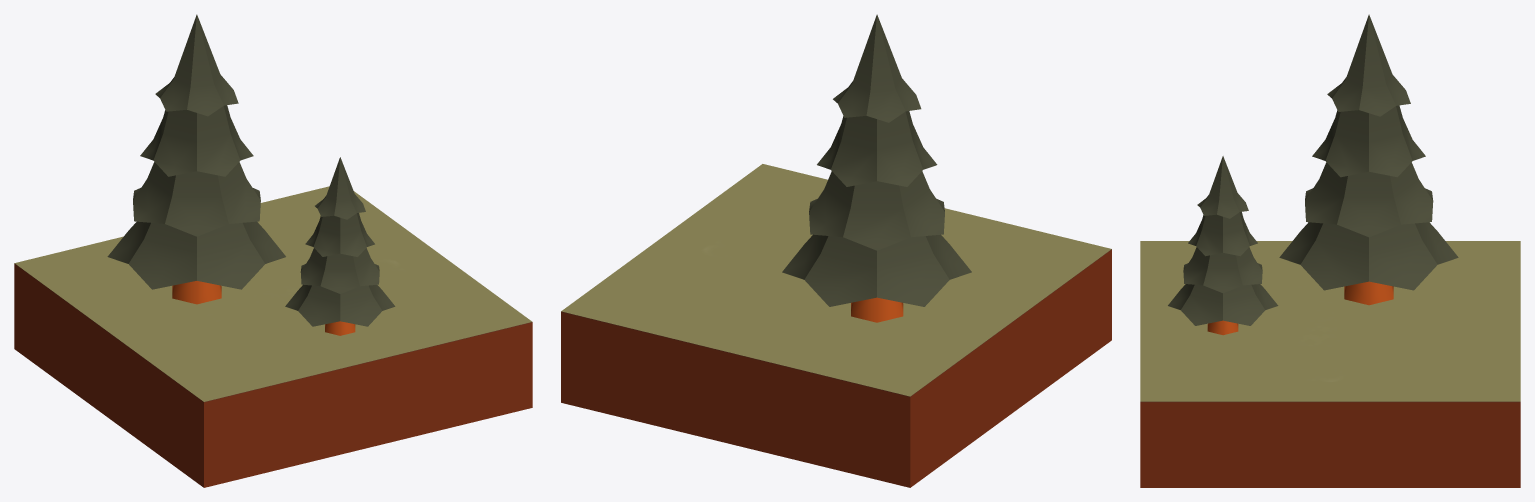
The model's file is base_pines.fbx.
3 views of the same model, side by side, from view 1: azimuth 30°, elevation 25°; view 2: azimuth 150°, elevation 25°; view 3: azimuth 270°, elevation 25° (orthographic). The views are drawn at different scales.
Visible parts, largest first — view 1: base_pines; view 2: base_pines; view 3: base_pines.
Part boxes in pixels (left/top/right/bottom): base_pines: left=14, top=14, right=532, bottom=487; base_pines: left=561, top=14, right=1111, bottom=487; base_pines: left=1140, top=14, right=1520, bottom=487.
Bounding box in the file's own units: 200 × 212 × 200.
Materials: 1 (1 with a texture image).
